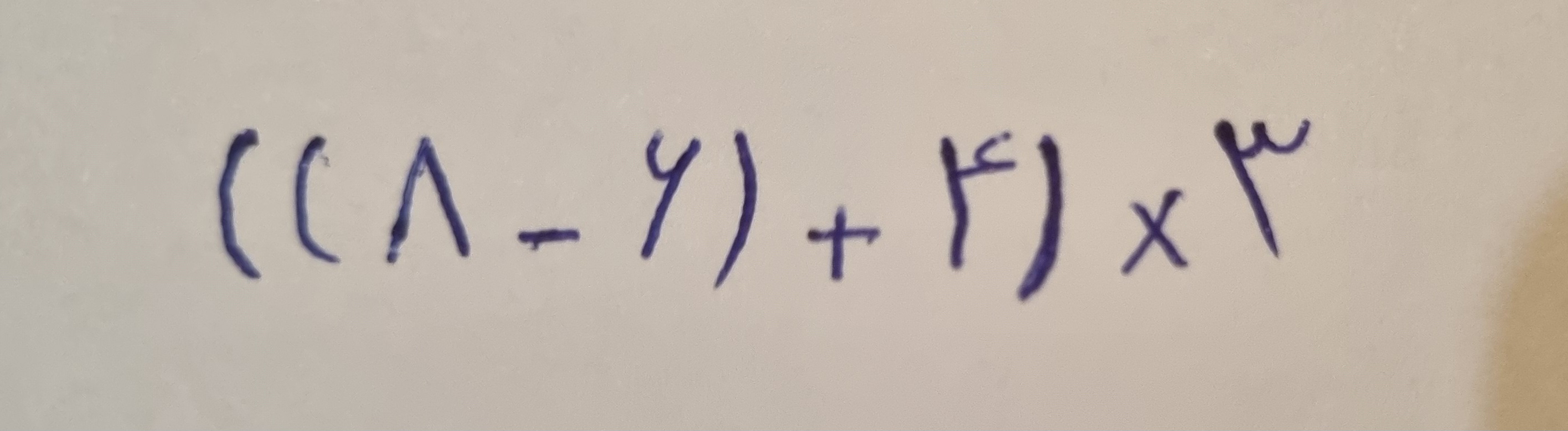character: (1213, 116, 1313, 263), (382, 134, 476, 268), (933, 129, 1019, 273), (635, 126, 704, 263), (1015, 132, 1065, 306), (710, 127, 761, 293), (214, 126, 265, 285), (1117, 187, 1194, 280), (293, 132, 343, 268), (804, 203, 883, 285), (516, 226, 581, 253)
